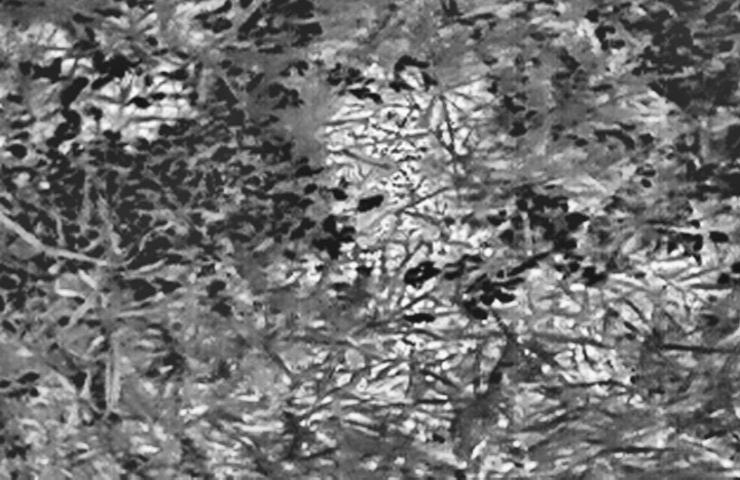landmines: (324, 62, 503, 274)
